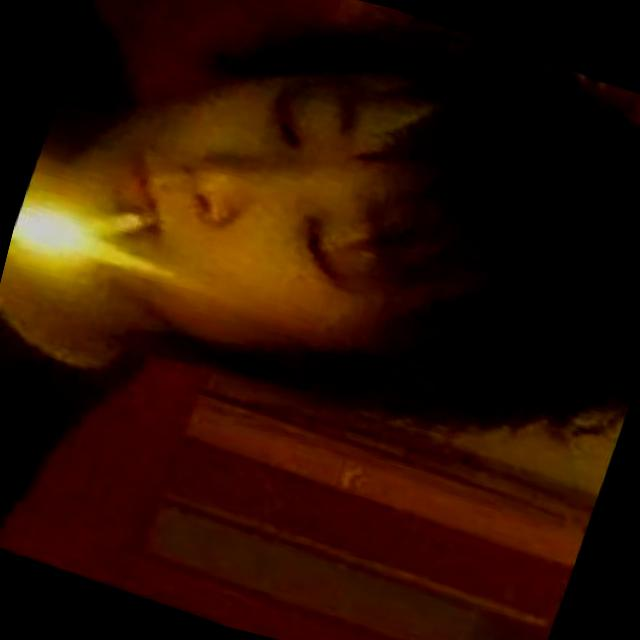cigarette: (60, 181, 162, 264)
